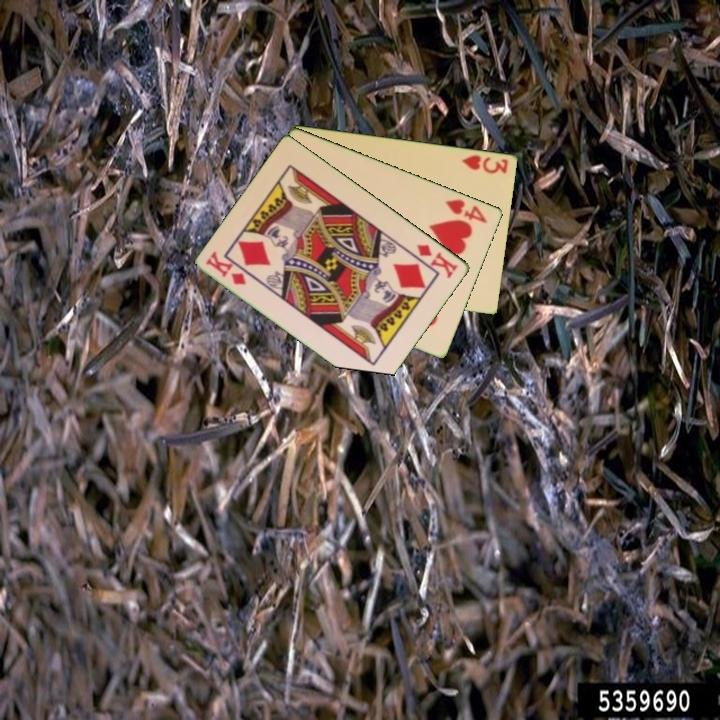3h: (459, 151, 511, 176)
4h: (442, 195, 491, 226)
Kd: (413, 240, 461, 281), (202, 248, 250, 288)
